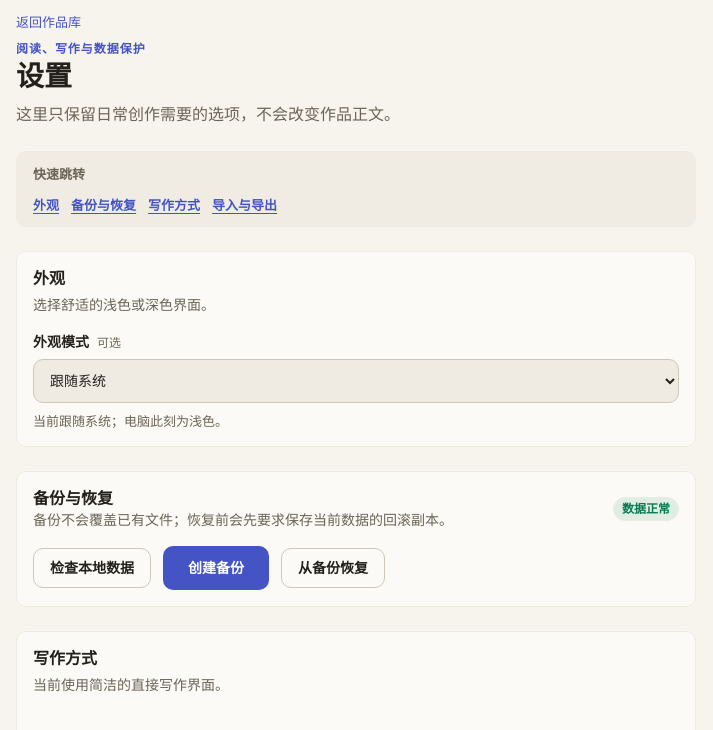
Test: SettingsPage native maintenance tickets › redacts a native ticket failure even if a hostile message contains a path
This screenshot has width=713, height=730.
What coordinates should you click on to do the following:
click the button "创建备份"
I would click on:
 (216, 568)
Its box is [163, 546, 269, 590].
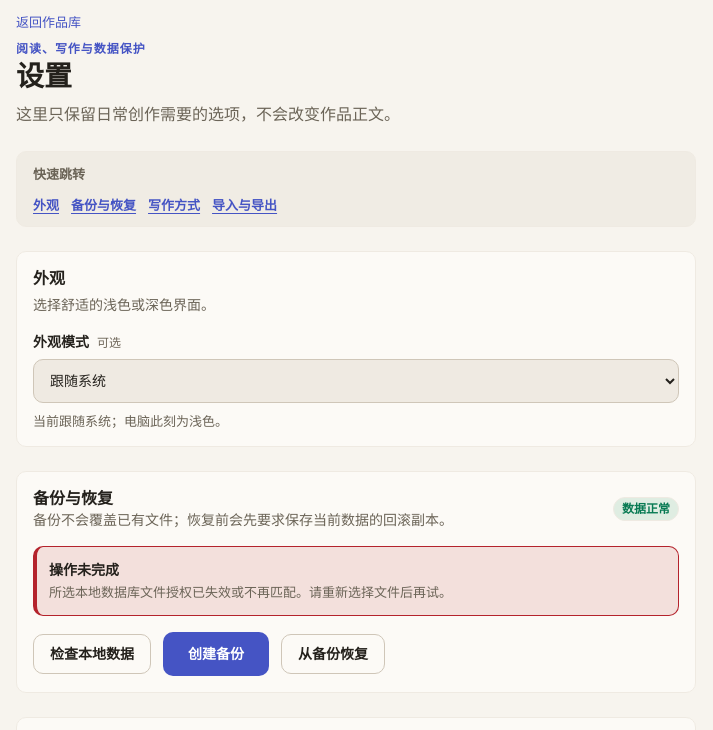
Now the text "所选本地数据库文件授权已失效或不再匹配。请重新选择文件后再试。" is shown, box [49, 584, 452, 600]
